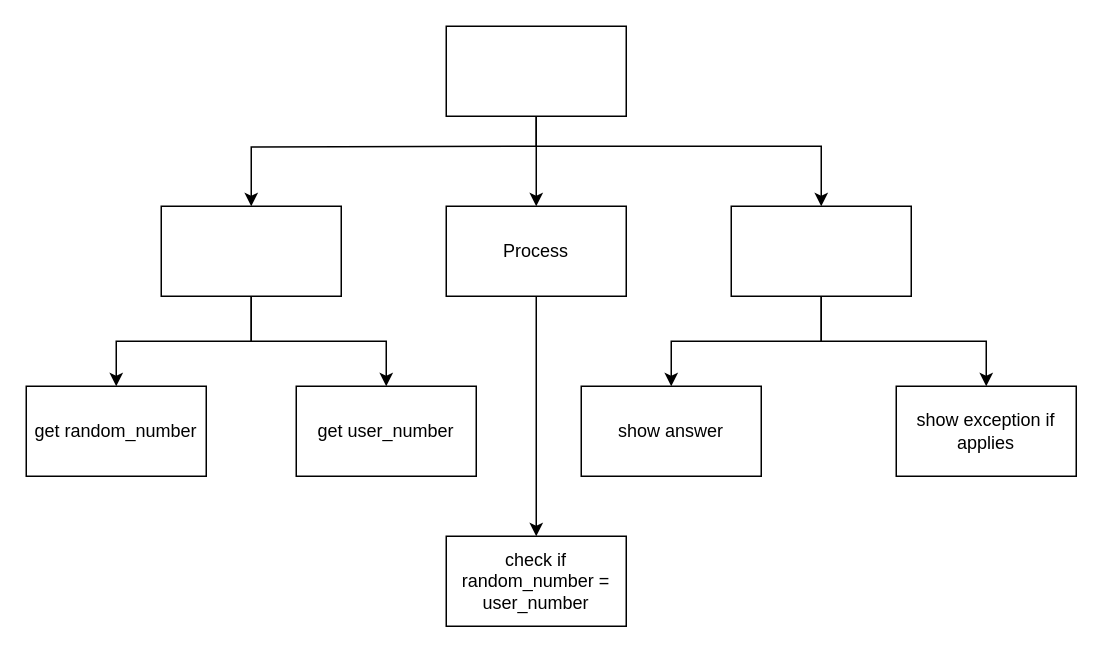
Some shapes in this 1103 by 653 pixel diagram are drawn without their labels. The centre of each missing label's shape, as x and y in pixels:
"Input" belongs at pixel 250 250.
"Month converter" belongs at pixel 535 70.
"Output" belongs at pixel 820 250.
